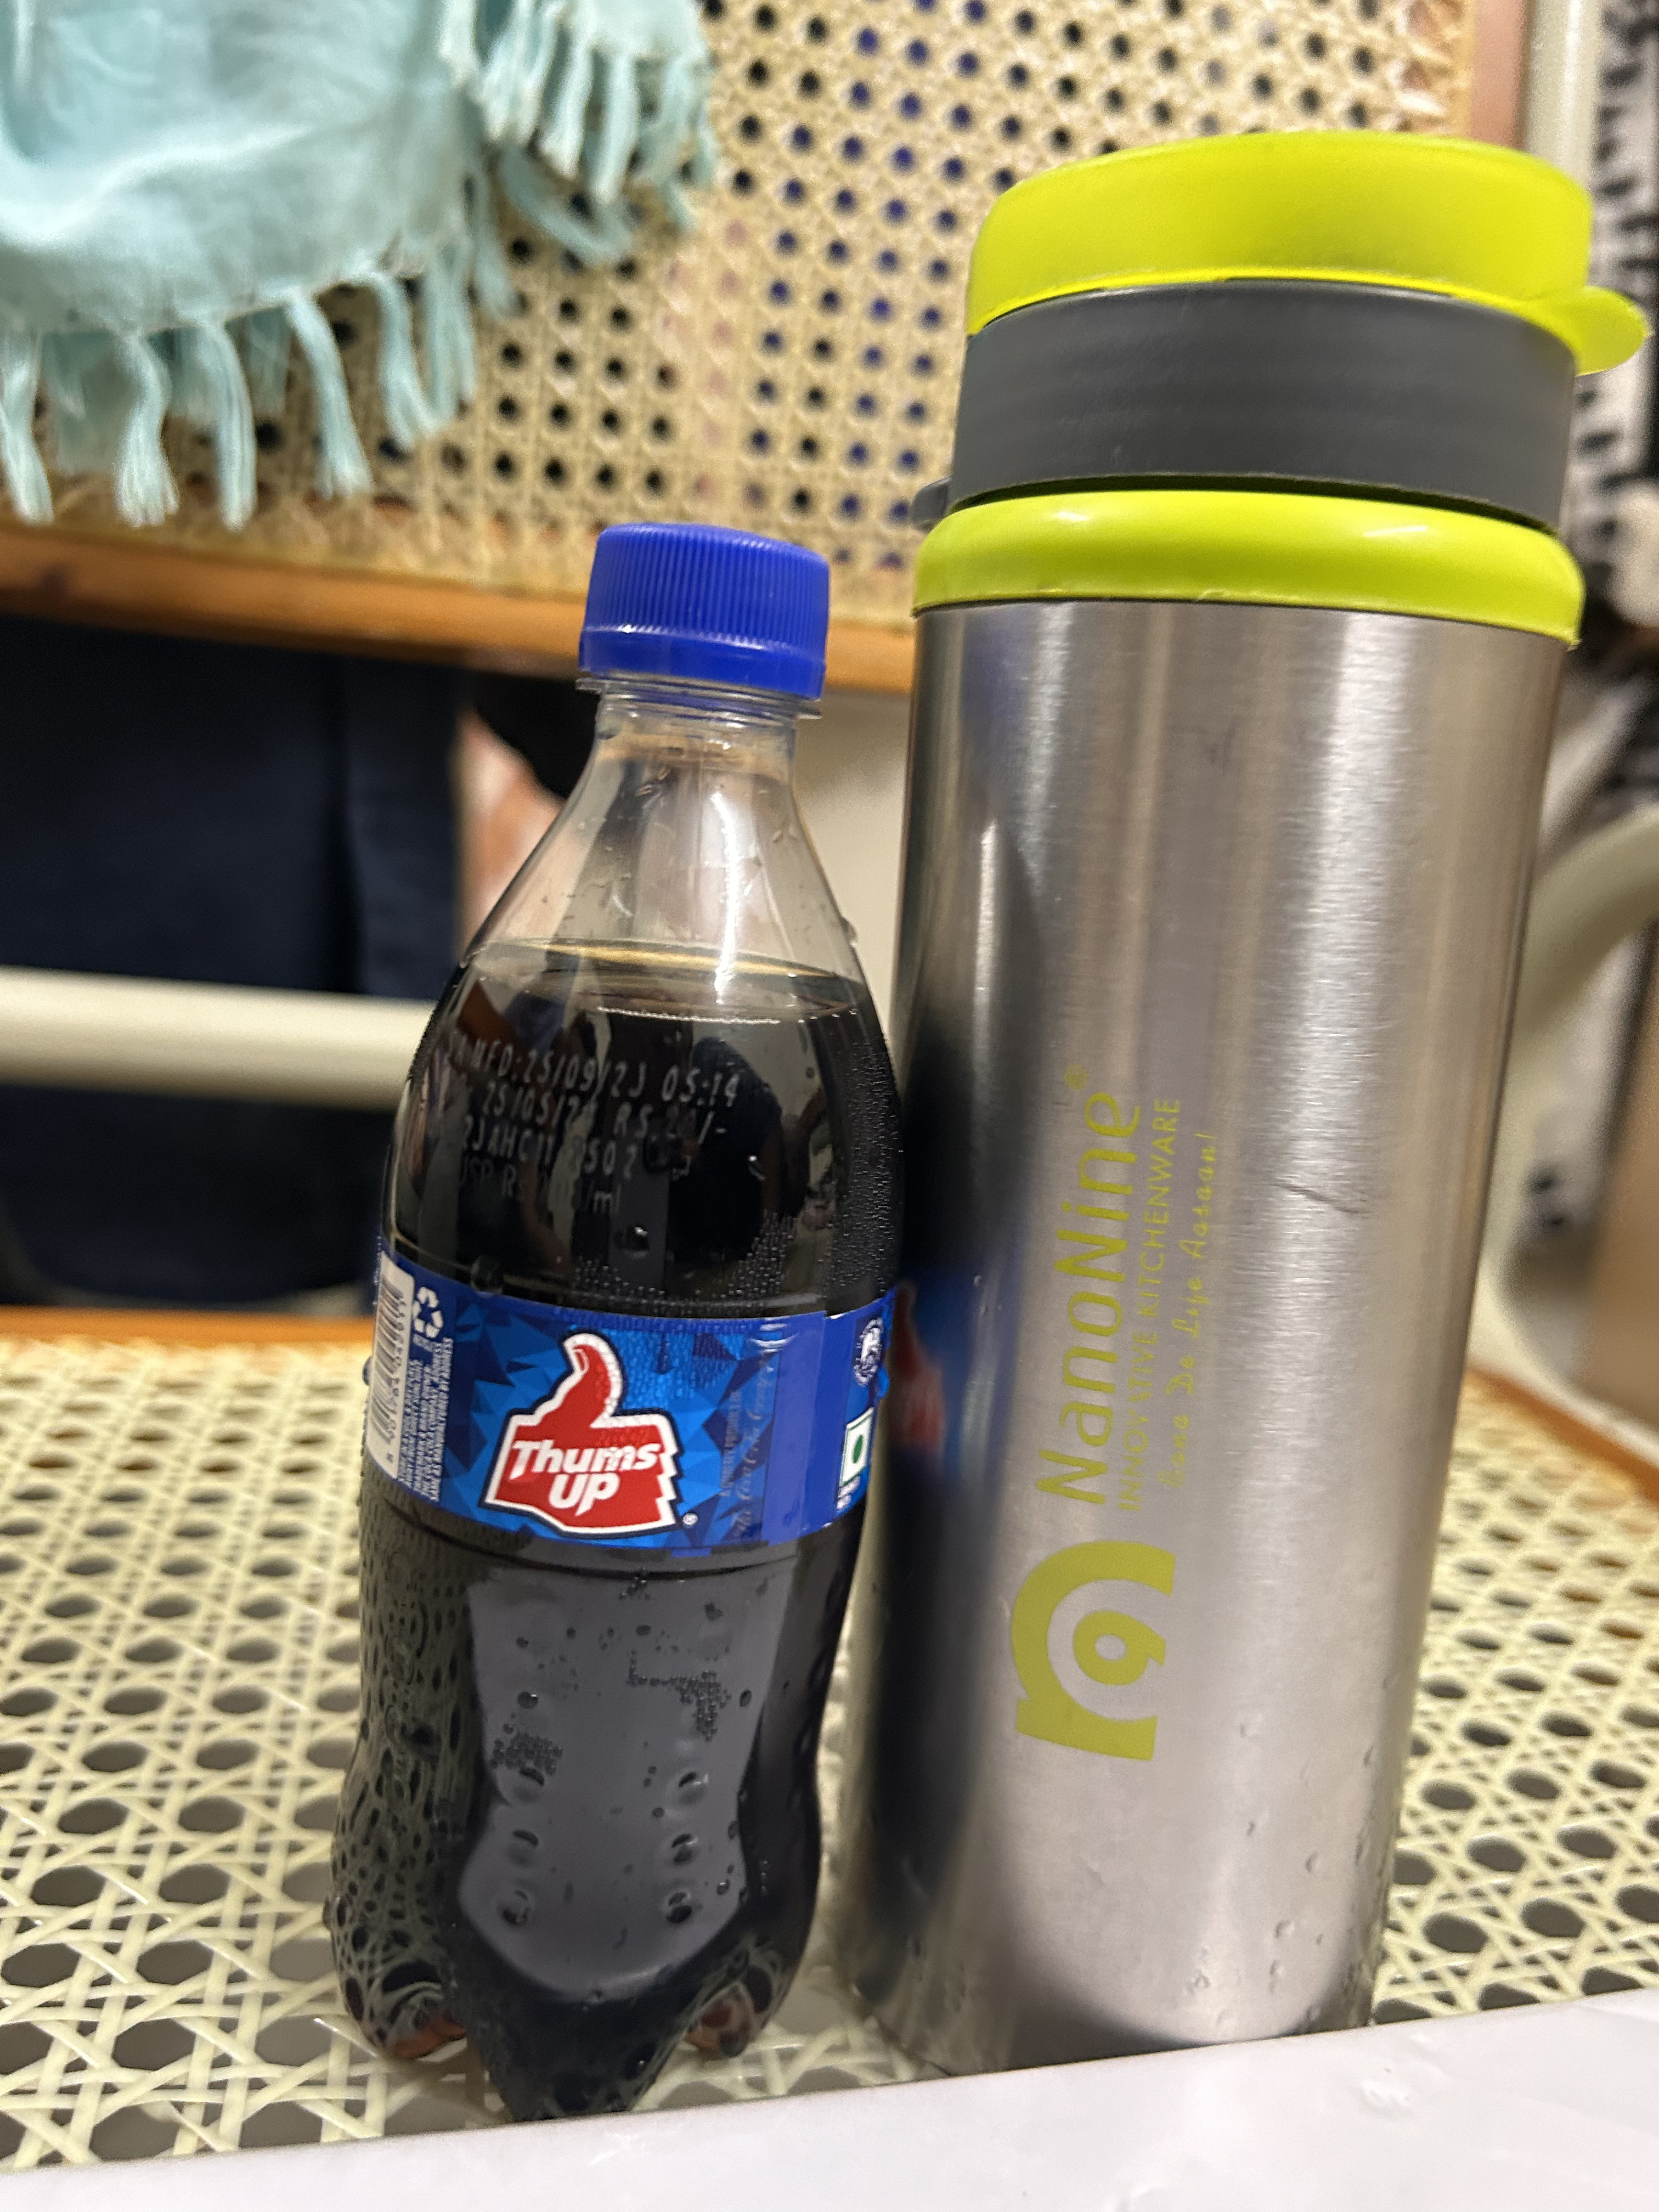sealstable: (554, 489, 838, 918)
